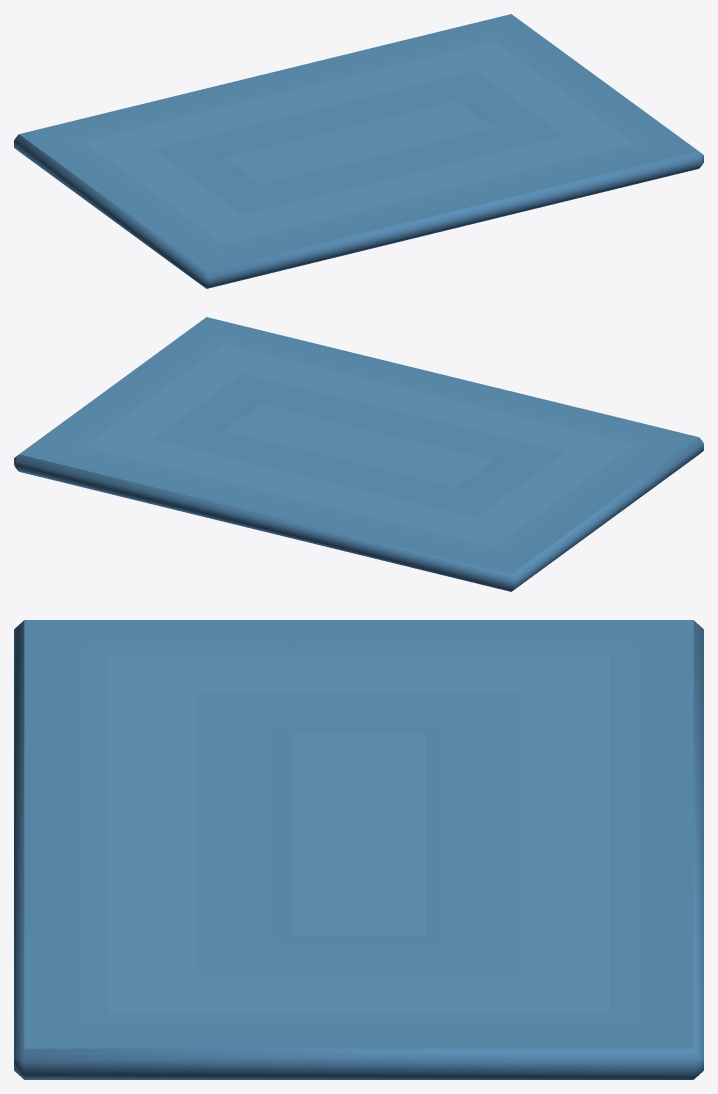
Rendered from rug-rectangle-stripes-b.glb.
3 renders of one model, top to bottom at view 1: azimuth 30°, elevation 25°; view 2: azimuth 150°, elevation 25°; view 3: azimuth 270°, elevation 25°, orthographic. The views are drawn at different scales.
Parts seen in each view (by area): view 1: rug_rectangle_stripes_B; view 2: rug_rectangle_stripes_B; view 3: rug_rectangle_stripes_B.
Boxes of the visible parts, left/top/right/bottom form: rug_rectangle_stripes_B: left=14, top=14, right=703, bottom=288; rug_rectangle_stripes_B: left=14, top=317, right=703, bottom=591; rug_rectangle_stripes_B: left=14, top=620, right=703, bottom=1079.
Size of the model in its own units: 3 by 0.1 by 2.
